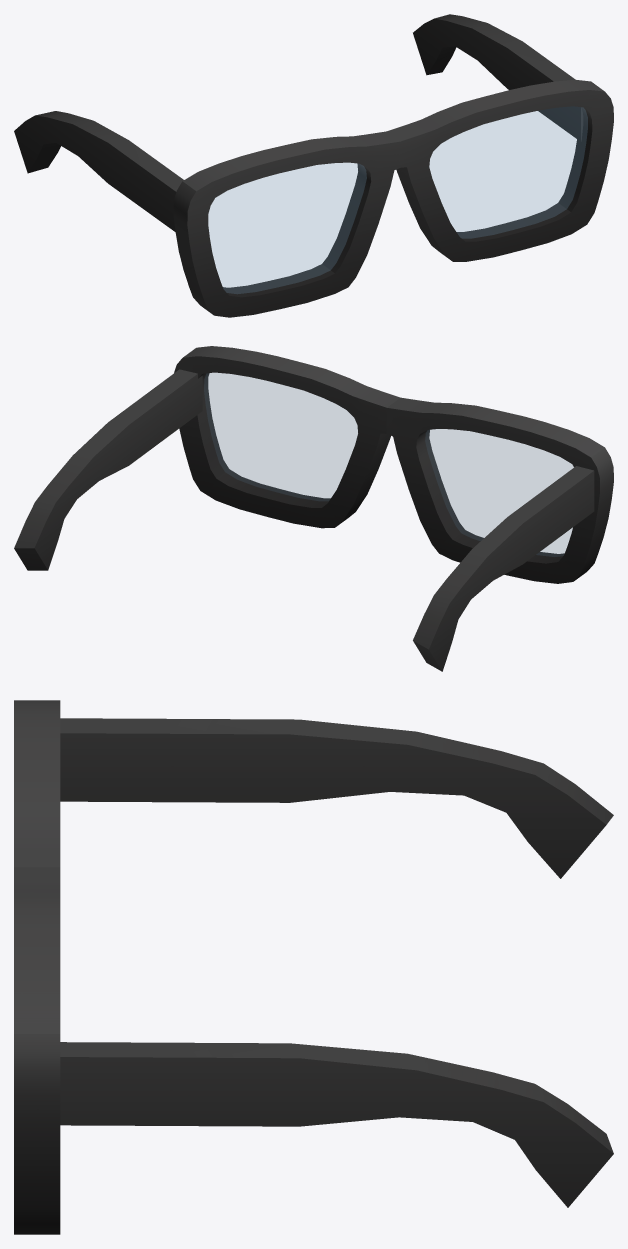
File: Head_Prop_City_Glass_01.fbx
3 renders of one model, top to bottom at view 1: azimuth 30°, elevation 25°; view 2: azimuth 150°, elevation 25°; view 3: azimuth 270°, elevation 25°, orthographic. The views are drawn at different scales.
Visible parts, largest first — view 1: Head_Prop_City_Glass_01; view 2: Head_Prop_City_Glass_01; view 3: Head_Prop_City_Glass_01.
Boxes of the visible parts, x1=… form: Head_Prop_City_Glass_01: x1=14, y1=14, x2=613, y2=317; Head_Prop_City_Glass_01: x1=14, y1=346, x2=613, y2=671; Head_Prop_City_Glass_01: x1=14, y1=700, x2=613, y2=1234.
Size of the model in its own units: 108 by 36.11 by 78.27.
